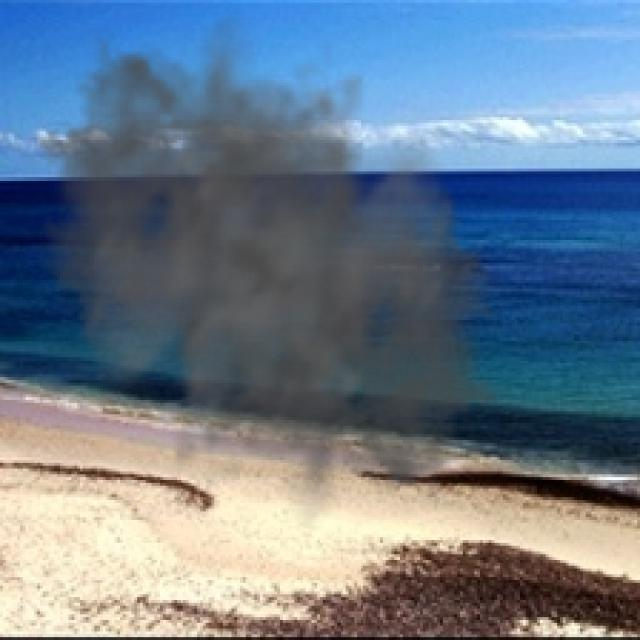smoke: (3, 11, 534, 528)
